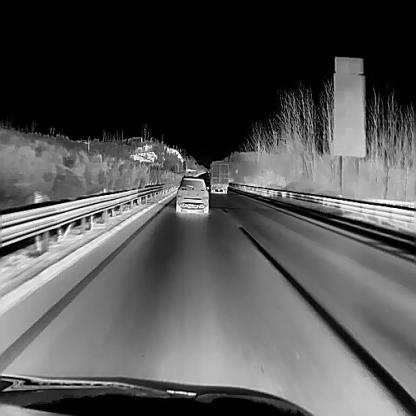car: (175, 175, 209, 213)
truck: (208, 160, 228, 194)
